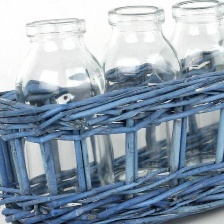bottle: (10, 11, 120, 217), (99, 3, 181, 199), (169, 0, 224, 185)
